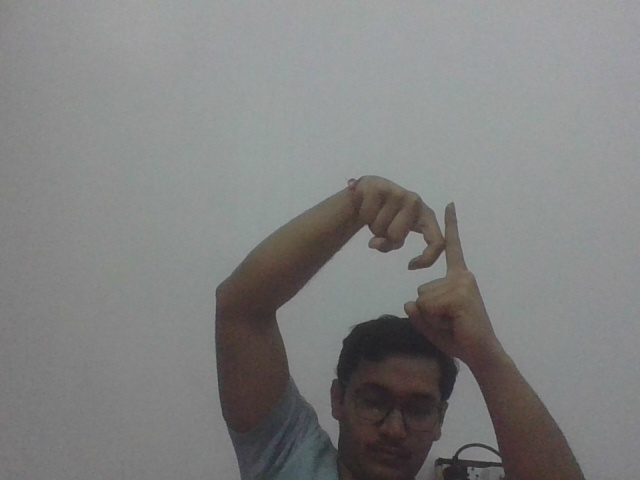K: (352, 166, 489, 316)
